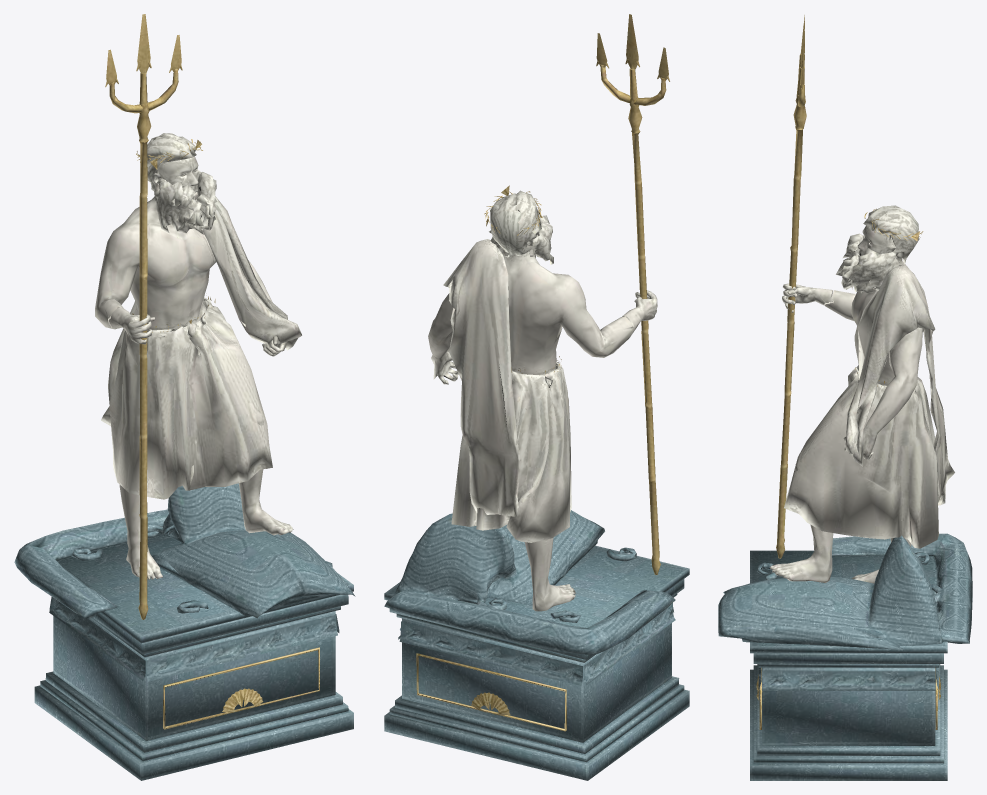
File: guardian-tides-lod1.glb
3 renders of one model, left to right at view 1: azimuth 30°, elevation 25°; view 2: azimuth 150°, elevation 25°; view 3: azimuth 270°, elevation 25°, orthographic. The views are drawn at different scales.
Visible parts, largest first — view 1: TIDES__PEDESTAL, TIDES__CLOTH, TIDES__WAVES, TIDES__BODY, TIDES__TRIDENT, TIDES__HAIR_BEARD, TIDES__DETAILS, TIDES__FACE, TIDES__HAND_GRIP; view 2: TIDES__PEDESTAL, TIDES__CLOTH, TIDES__WAVES, TIDES__BODY, TIDES__TRIDENT, TIDES__HAIR_BEARD, TIDES__DETAILS, TIDES__HAND_GRIP; view 3: TIDES__PEDESTAL, TIDES__CLOTH, TIDES__WAVES, TIDES__BODY, TIDES__TRIDENT, TIDES__HAIR_BEARD, TIDES__HAND_GRIP, TIDES__FACE, TIDES__DETAILS.
Boxes of the visible parts, x1,y1,x2,y2 form: TIDES__PEDESTAL: (34,533,353,780); TIDES__CLOTH: (101,196,301,499); TIDES__WAVES: (14,483,355,618); TIDES__BODY: (95,196,293,579); TIDES__TRIDENT: (105,14,182,619); TIDES__HAIR_BEARD: (147,133,217,234); TIDES__DETAILS: (132,139,319,729); TIDES__FACE: (152,156,199,199); TIDES__HAND_GRIP: (109,308,155,344); TIDES__PEDESTAL: (384,545,689,780); TIDES__CLOTH: (431,239,571,542); TIDES__WAVES: (384,510,675,654); TIDES__BODY: (428,244,633,611); TIDES__TRIDENT: (596,14,669,574); TIDES__HAIR_BEARD: (489,190,553,264); TIDES__DETAILS: (416,185,566,731); TIDES__HAND_GRIP: (622,290,657,333); TIDES__PEDESTAL: (750,550,947,780); TIDES__CLOTH: (784,265,954,548); TIDES__WAVES: (718,533,972,649); TIDES__BODY: (769,258,924,583); TIDES__TRIDENT: (776,15,806,558); TIDES__HAIR_BEARD: (836,205,919,292); TIDES__HAND_GRIP: (782,283,833,312); TIDES__FACE: (857,226,899,262); TIDES__DETAILS: (756,208,940,729).
Bounding box in the file's own units: 3.37 × 9.9 × 3.34.
Materials: 3 (3 with a texture image).
